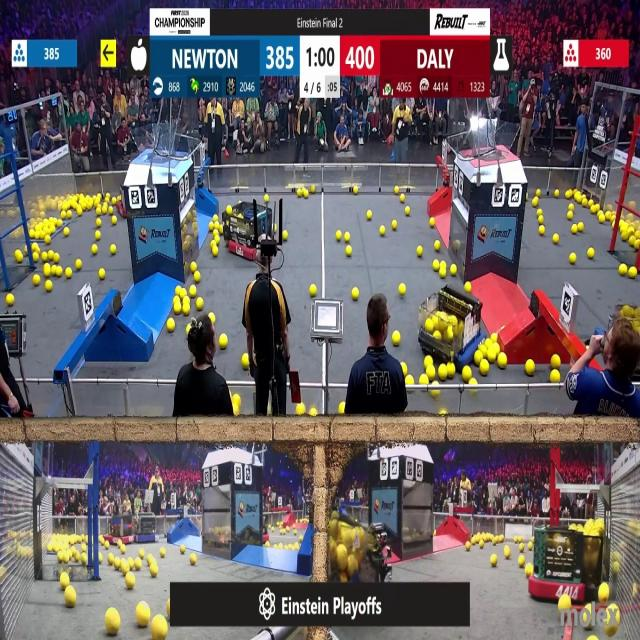ball_ground: (106, 611, 120, 637), (152, 618, 167, 639), (137, 605, 150, 629), (65, 588, 77, 608), (598, 586, 609, 602), (559, 594, 571, 608), (126, 572, 136, 588), (60, 573, 70, 587), (606, 622, 616, 636), (447, 362, 456, 377), (462, 366, 471, 380), (552, 354, 561, 368), (551, 371, 561, 383), (242, 354, 250, 369), (498, 353, 506, 368), (481, 361, 490, 374), (488, 349, 497, 362), (392, 333, 400, 347), (526, 360, 534, 374), (219, 336, 227, 350), (439, 364, 447, 378), (426, 365, 435, 377), (149, 564, 157, 577), (473, 351, 481, 364), (233, 394, 241, 407), (620, 265, 628, 277), (182, 304, 190, 316), (174, 303, 182, 315), (525, 564, 533, 576), (168, 319, 175, 332), (352, 287, 359, 300), (629, 268, 637, 279), (296, 406, 304, 417), (47, 251, 55, 262), (6, 293, 13, 305), (310, 284, 317, 296), (66, 268, 73, 280), (441, 268, 448, 280), (339, 404, 346, 416), (491, 555, 498, 567), (424, 356, 432, 366), (44, 265, 50, 278), (188, 286, 195, 297), (44, 281, 51, 292), (195, 300, 202, 311), (15, 251, 22, 262), (518, 556, 525, 567), (430, 389, 438, 398), (189, 554, 195, 566), (401, 362, 407, 374), (628, 238, 636, 247), (50, 266, 56, 278), (99, 270, 106, 280), (569, 253, 576, 263), (451, 266, 458, 276), (407, 376, 414, 386), (421, 375, 428, 385), (56, 268, 63, 278), (41, 252, 48, 262), (598, 213, 605, 223), (75, 553, 82, 563), (589, 248, 595, 259), (538, 224, 544, 235), (76, 261, 82, 272), (34, 275, 40, 286), (136, 559, 142, 570), (114, 559, 120, 570), (130, 558, 136, 569), (59, 552, 65, 563), (398, 284, 404, 294), (571, 223, 577, 233), (93, 245, 99, 255), (346, 246, 352, 256), (464, 282, 470, 292), (434, 241, 440, 251), (212, 246, 218, 256), (193, 273, 199, 283), (554, 235, 560, 245), (110, 244, 116, 254), (432, 262, 438, 272), (34, 252, 40, 262), (337, 232, 343, 242), (55, 253, 61, 263), (535, 199, 541, 209), (108, 554, 114, 564), (81, 554, 87, 564), (310, 410, 317, 418), (182, 296, 189, 304), (174, 294, 181, 302), (564, 190, 571, 198), (418, 246, 423, 257), (504, 548, 509, 559), (365, 211, 371, 220), (64, 229, 70, 238), (492, 334, 498, 343), (566, 211, 572, 220), (108, 206, 114, 215), (67, 210, 73, 219), (591, 205, 597, 214), (76, 207, 82, 216), (214, 236, 220, 245), (44, 236, 50, 245), (381, 224, 386, 234), (210, 312, 215, 322), (176, 286, 181, 296), (99, 554, 104, 564), (403, 207, 409, 215), (429, 218, 435, 226), (32, 244, 38, 252), (304, 190, 310, 198), (81, 542, 87, 550), (147, 554, 153, 562), (528, 542, 534, 550), (583, 200, 589, 208), (283, 232, 288, 241), (96, 232, 101, 241), (392, 220, 397, 229), (120, 543, 125, 552), (578, 222, 583, 231), (345, 234, 350, 243), (190, 264, 195, 273), (538, 215, 543, 224), (97, 218, 102, 227), (140, 550, 145, 559), (104, 541, 110, 548), (441, 411, 448, 417), (536, 209, 542, 216), (224, 207, 230, 214), (180, 544, 185, 552), (465, 541, 470, 549), (399, 193, 404, 201), (555, 189, 560, 197), (535, 188, 540, 196), (394, 186, 399, 194), (296, 189, 301, 197), (111, 198, 116, 206), (100, 536, 105, 544), (293, 543, 299, 549), (97, 208, 102, 215), (568, 204, 573, 211), (353, 187, 358, 194), (499, 538, 504, 545), (162, 549, 166, 557), (112, 216, 116, 224), (520, 542, 524, 550), (312, 185, 316, 193), (210, 222, 214, 230), (481, 539, 485, 547), (184, 288, 188, 296), (274, 543, 280, 548), (266, 194, 270, 201), (214, 215, 218, 222), (471, 536, 475, 543), (267, 541, 271, 547), (515, 536, 519, 542), (591, 636, 597, 640), (186, 324, 189, 332)
goal: (465, 121, 521, 160), (130, 129, 189, 161)
robot_blue: (419, 290, 484, 362), (132, 514, 158, 542)
robot_red: (532, 522, 586, 605), (222, 199, 273, 260), (617, 515, 640, 618), (104, 515, 134, 546), (619, 303, 640, 341)
